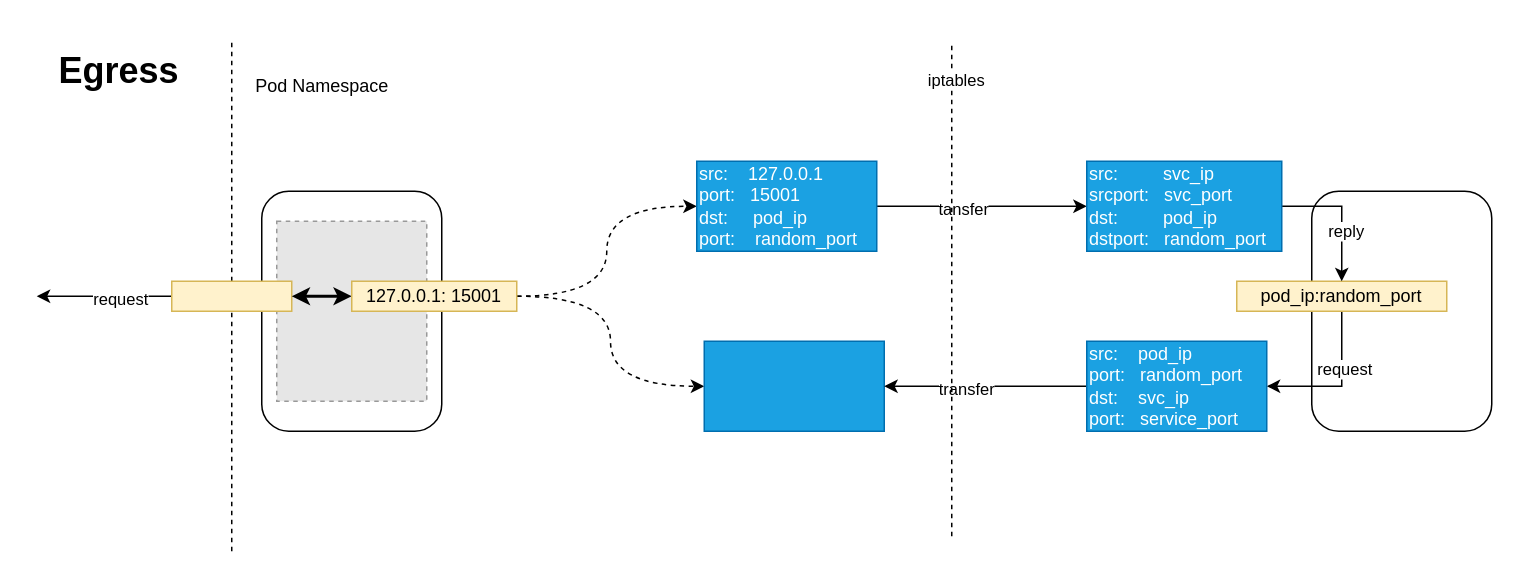
The diagram is 1518 pixels wide and 579 high, and some of its shapes have lost their labels. Grey dashed boxes stand in for pictures. The shapes that lost their labels are listed below. From the top down, each one's box as (x1, y1, x2, y2) in pixels, then its label:
(170, 280, 292, 311): pod_ip:10000
(703, 340, 884, 431): src: pod_ip port: random_port dst: 127.0.0.1 port: 15006
